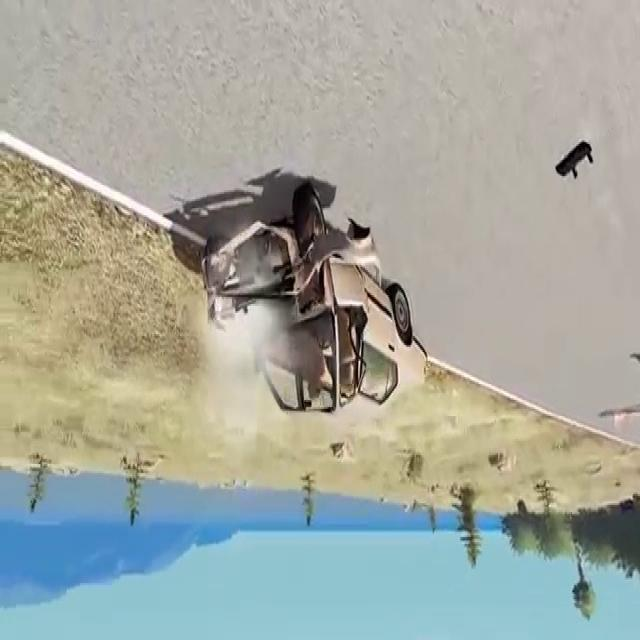severe: (193, 186, 430, 422)
